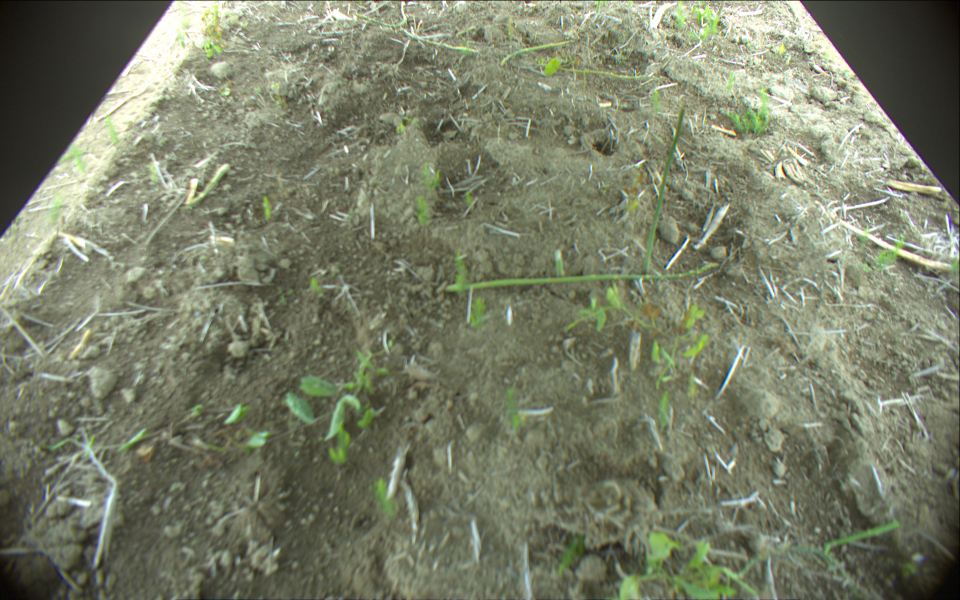aspa: (640, 101, 686, 273), (446, 263, 718, 290), (823, 521, 899, 553), (499, 37, 578, 66), (189, 162, 233, 205), (403, 34, 482, 55), (557, 65, 655, 81), (355, 1, 406, 29)
